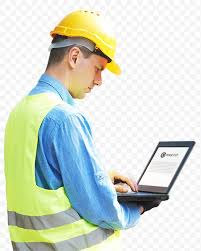Person_wearing_helmet: (40, 3, 128, 65)
